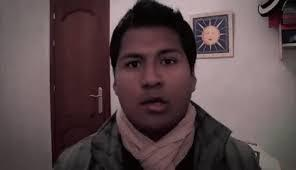strokeEyeWeak: (117, 45, 186, 73)
strokeMouthMid: (136, 92, 171, 114)
